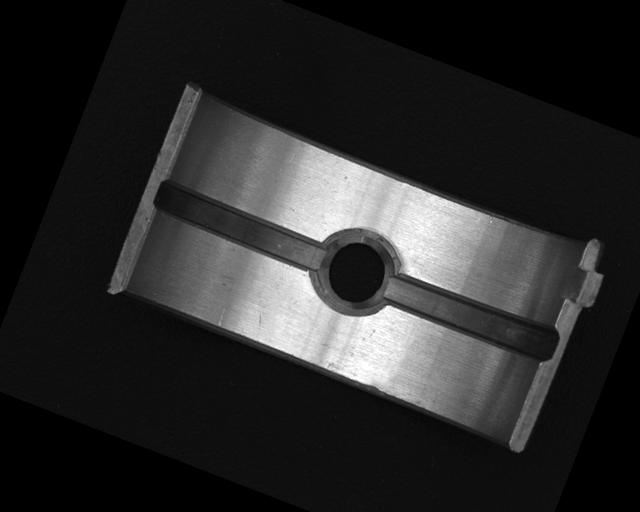gap: (147, 174, 338, 281), (378, 264, 562, 367)
hole: (304, 219, 407, 323)
nick: (214, 305, 229, 328)
